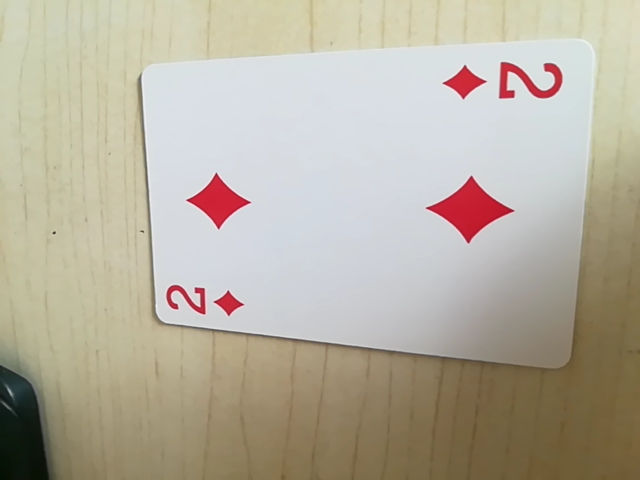fk 2: (439, 56, 569, 108), (161, 272, 250, 326)
